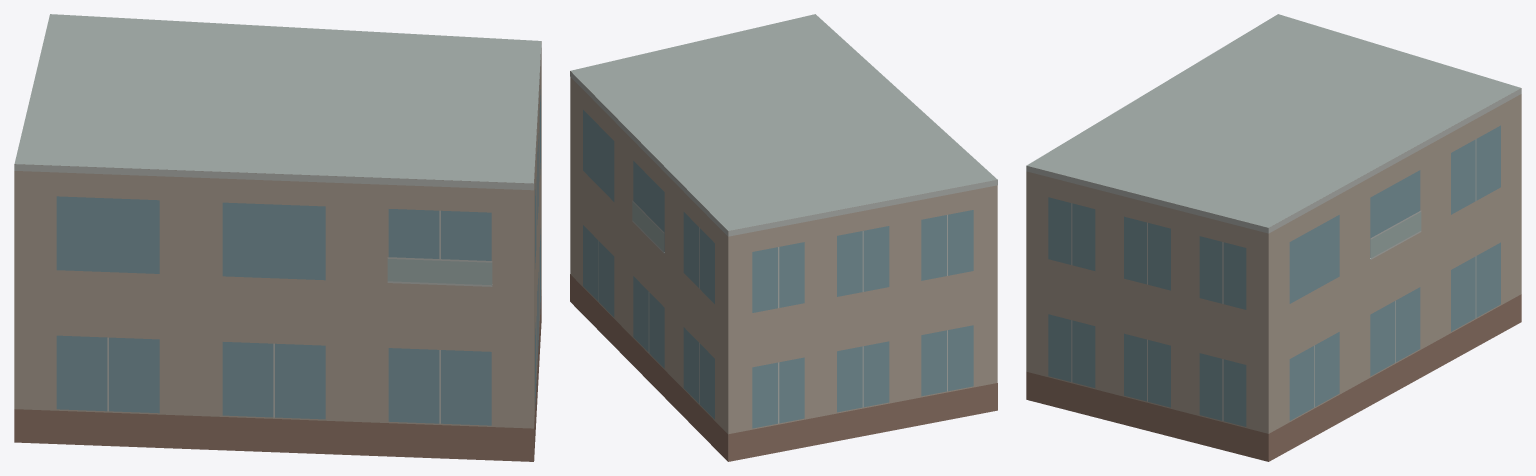
File: residential-154adea8-5e26-4224-af00-ed5b6e1d3a9c.glb
3 renders of one model, left to right at view 1: azimuth 30°, elevation 25°; view 2: azimuth 150°, elevation 25°; view 3: azimuth 270°, elevation 25°, orthographic. The views are drawn at different scales.
Visible parts, largest first — view 1: residential-154adea8-5e26-4224-af00-ed5b6e1d3a9c.tmp; view 2: residential-154adea8-5e26-4224-af00-ed5b6e1d3a9c.tmp; view 3: residential-154adea8-5e26-4224-af00-ed5b6e1d3a9c.tmp.
Part boxes in pixels (x1,y1,x2,y2): residential-154adea8-5e26-4224-af00-ed5b6e1d3a9c.tmp: (14,14,541,461); residential-154adea8-5e26-4224-af00-ed5b6e1d3a9c.tmp: (570,14,997,461); residential-154adea8-5e26-4224-af00-ed5b6e1d3a9c.tmp: (1026,14,1521,461).
Bounding box in the file's own units: 19.61 × 10 × 19.19.
